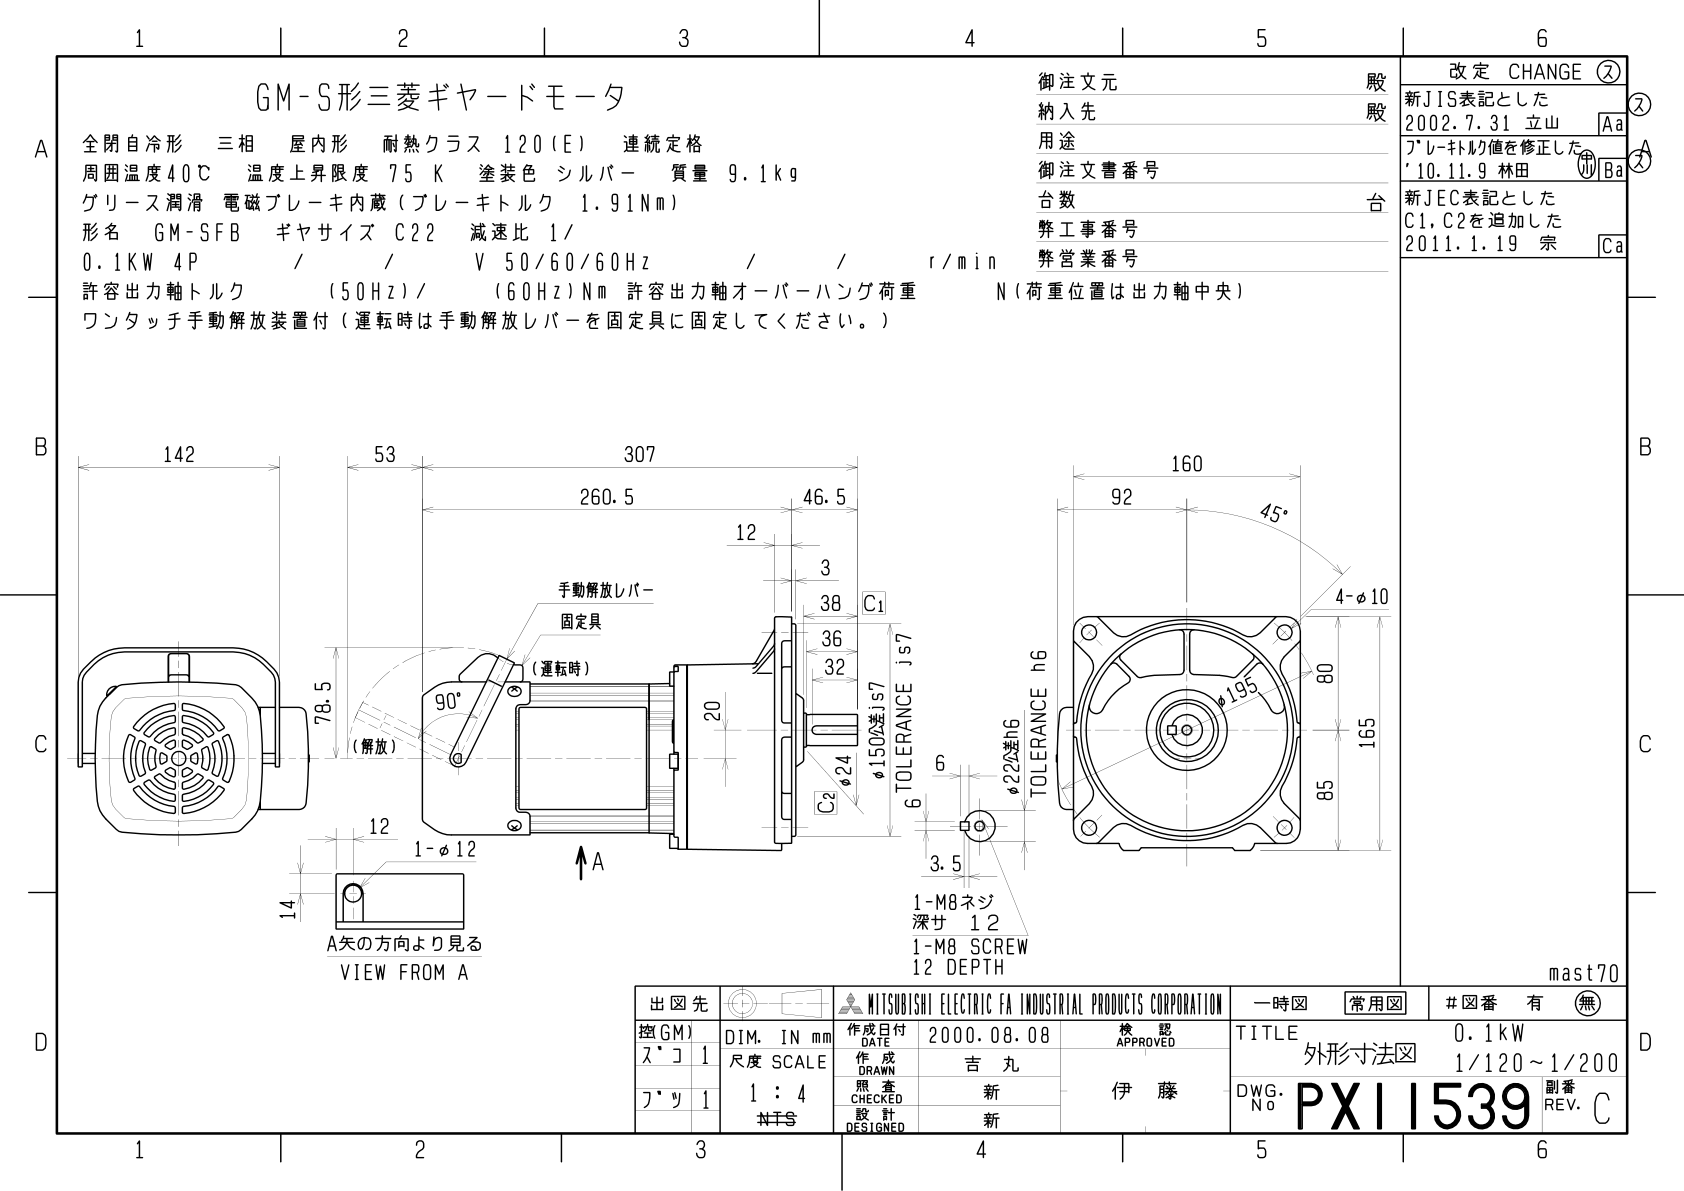GM_S_手動ブレーキ＿三相_フランジ: (67, 429, 1389, 980)
